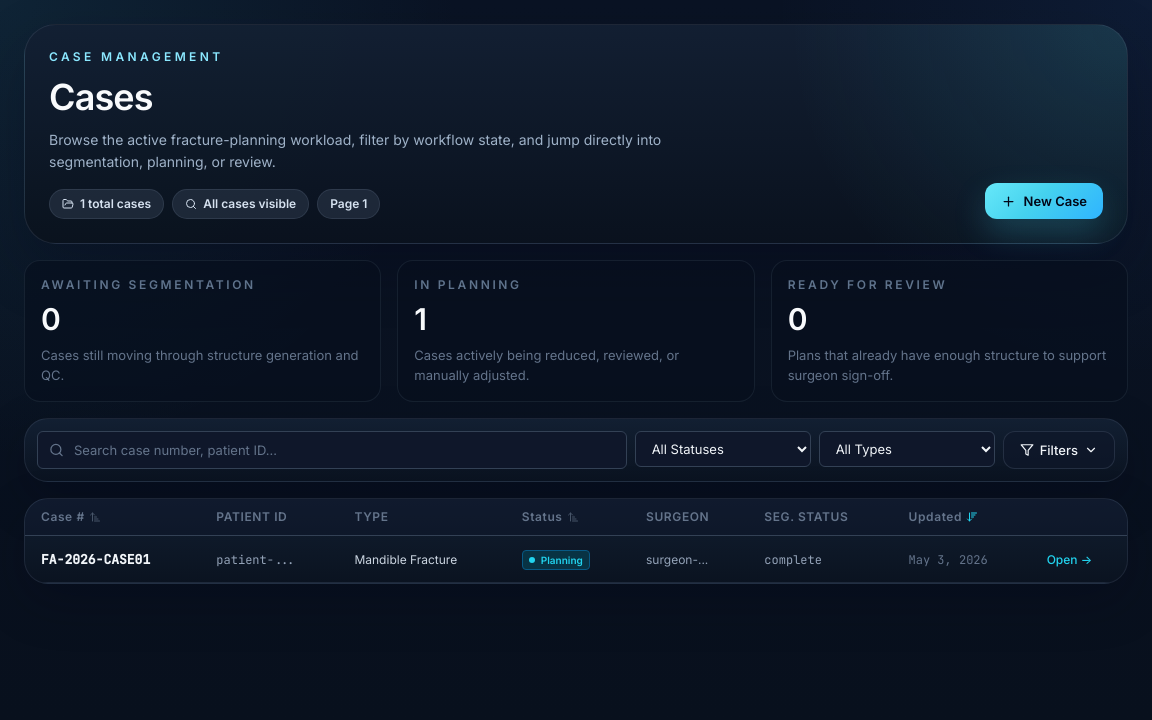
Test: CaseListPage › passes the selected status filter into the cases query
Expected: the text "FA-2026-CASE01" is shown, [41,550,150,568]
Step 1. Select "Approved" in the dropdown with test id "status-filter" → (723, 449), box [635,431,811,467]
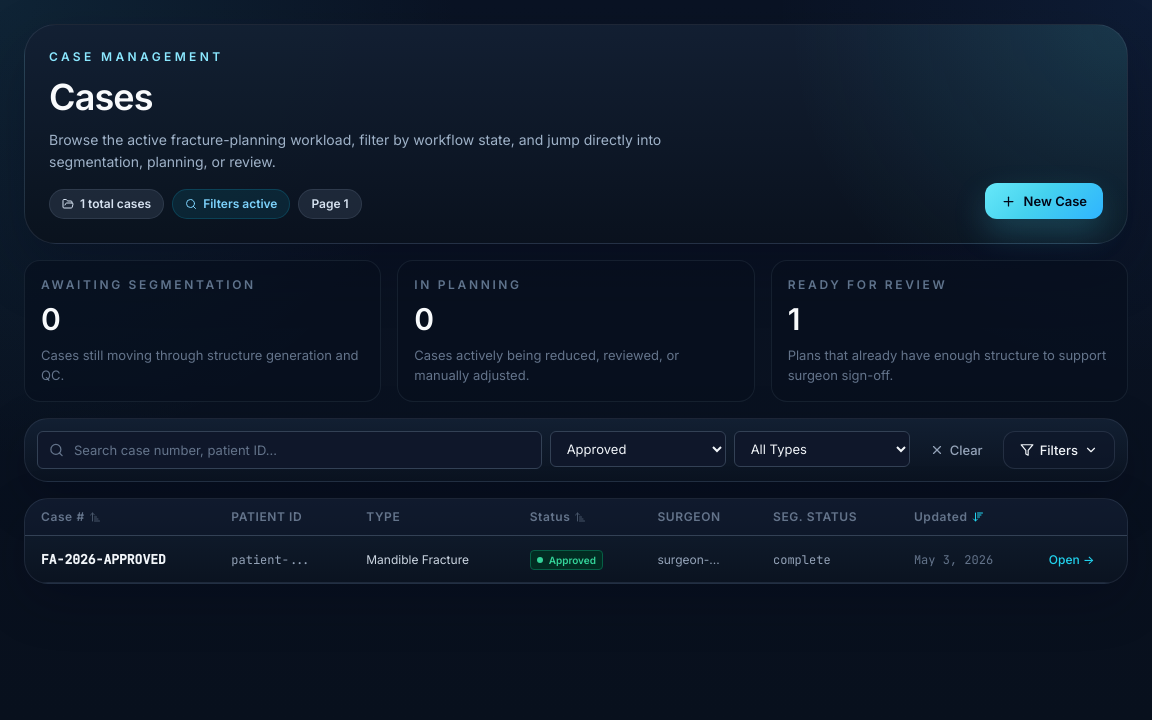
Result: the text "FA-2026-APPROVED" is shown at [41,550,166,568]
